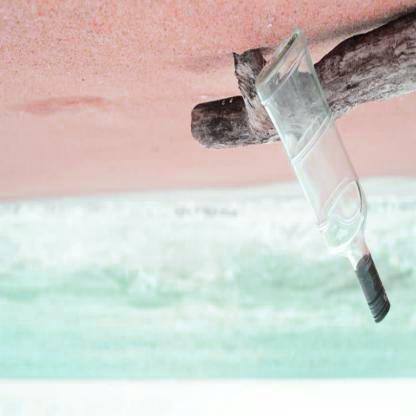Glass: (251, 29, 395, 326)
